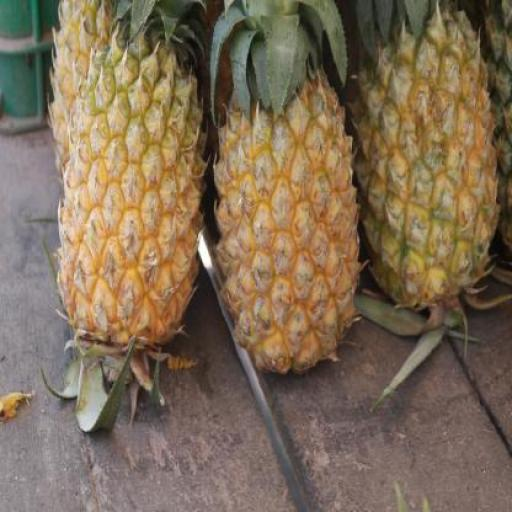------------------------------: (356, 14, 499, 307)
Pineapple - v8 v1: (60, 38, 205, 362), (216, 78, 364, 380)
